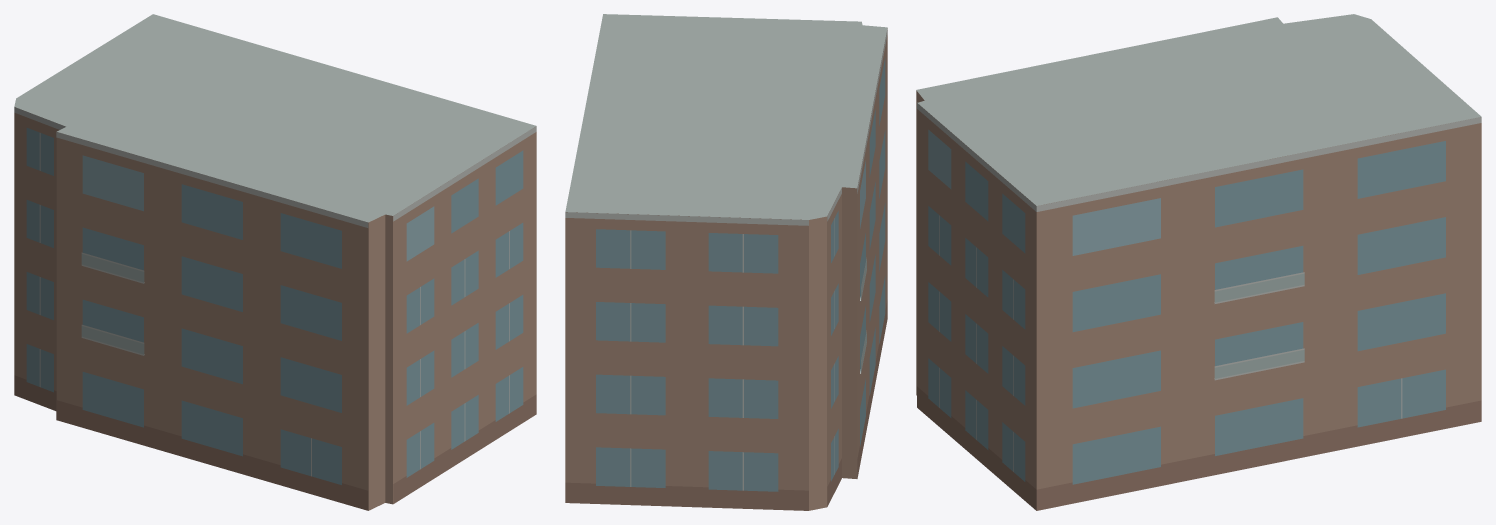
Rendered from survey-upis-32691515.glb.
3 renders of one model, left to right at view 1: azimuth 30°, elevation 25°; view 2: azimuth 150°, elevation 25°; view 3: azimuth 270°, elevation 25°, orthographic. The views are drawn at different scales.
Visible parts, largest first — view 1: survey-upis-32691515.tmp; view 2: survey-upis-32691515.tmp; view 3: survey-upis-32691515.tmp.
Boxes of the visible parts, x1,y1,x2,y2 form: survey-upis-32691515.tmp: (14,14,536,510); survey-upis-32691515.tmp: (565,14,887,510); survey-upis-32691515.tmp: (916,14,1481,510).
Bounding box in the file's own units: 16.49 × 12.2 × 20.52.
